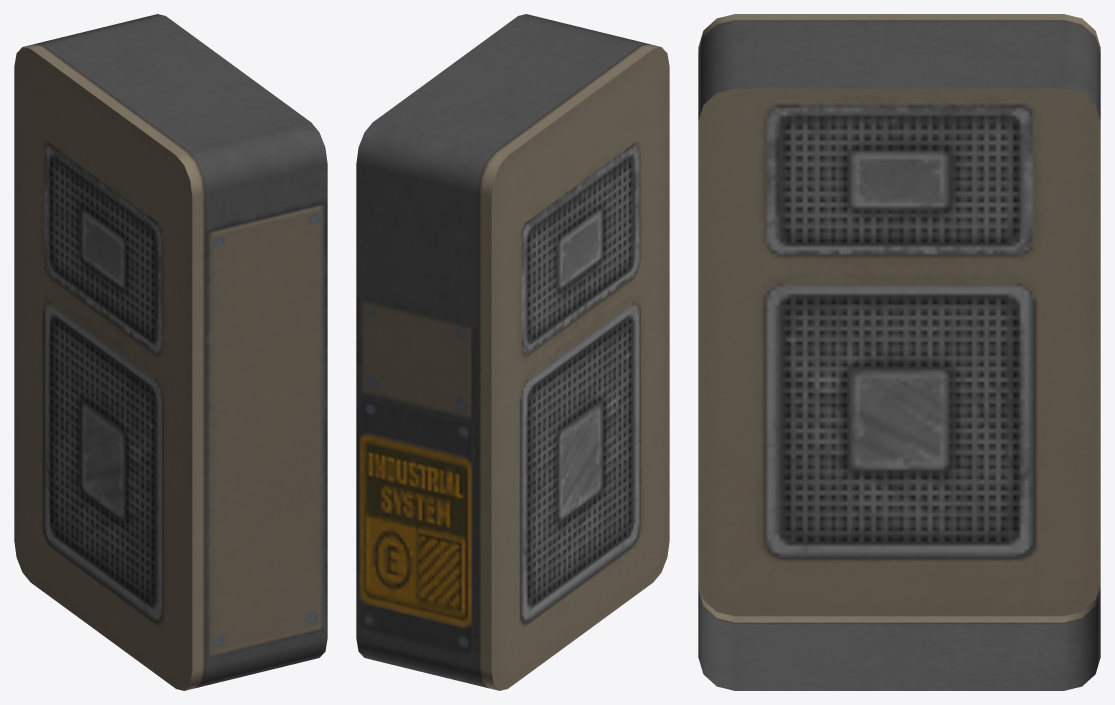
The model's file is CP_Metro_Speaker.fbx.
The picture shows the model from 3 angles, left to right: view 1: azimuth 30°, elevation 25°; view 2: azimuth 150°, elevation 25°; view 3: azimuth 270°, elevation 25°; orthographic projection. The views are drawn at different scales.
Parts seen in each view (by area): view 1: CP_Metro_Speaker; view 2: CP_Metro_Speaker; view 3: CP_Metro_Speaker.
Part boxes in pixels (x1=…): CP_Metro_Speaker: x1=14, y1=14, x2=327, y2=690; CP_Metro_Speaker: x1=356, y1=14, x2=669, y2=690; CP_Metro_Speaker: x1=698, y1=14, x2=1100, y2=690.
Size of the model in its own units: 22.16 by 83.54 by 50.53.
